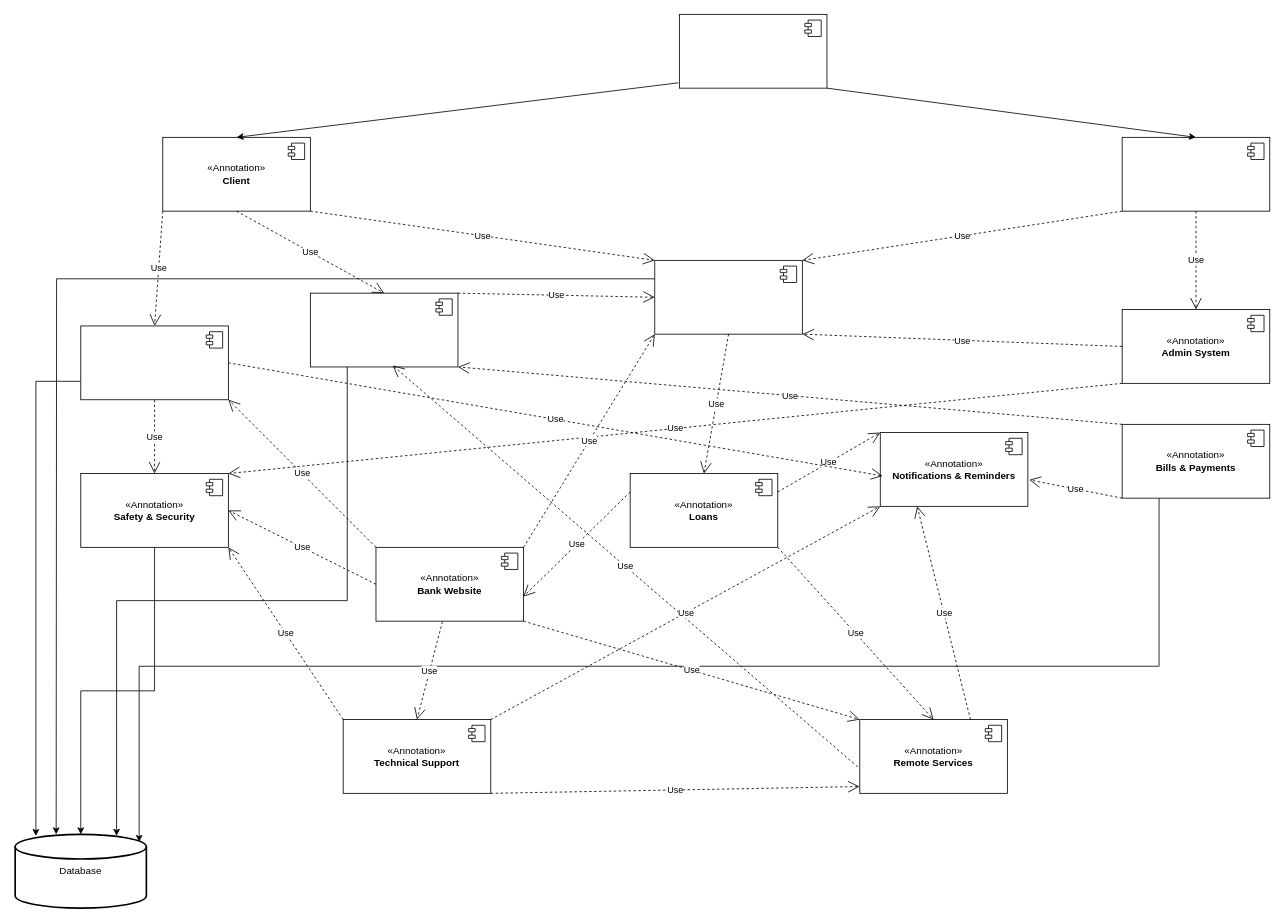
The diagram is 1284 pixels wide and 923 high, and some of its shapes have lost their labels. Each missing label, with the centre of its shape:
"«Annotation» Banker/Admin" goes at pixel 1195 174.
"«Annotation» Credit Cards" goes at pixel 384 329.
"«Annotation» Registeration & Login" goes at pixel 154 362.
"«Annotation» User Information System" goes at pixel 728 297.
"«Annotation» User Interface" goes at pixel 753 51.
